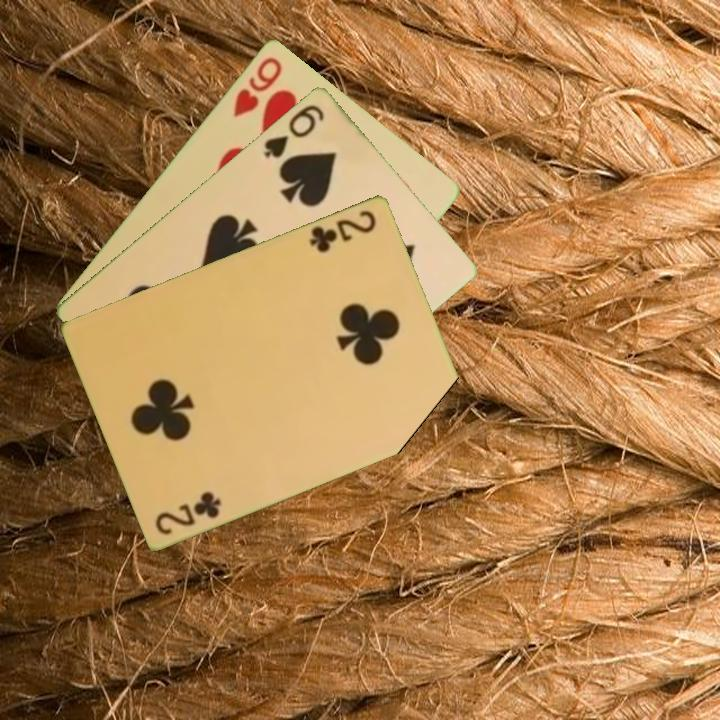2c: (306, 206, 380, 255), (152, 487, 224, 537)
6s: (260, 100, 327, 160)
9h: (229, 52, 285, 120)
